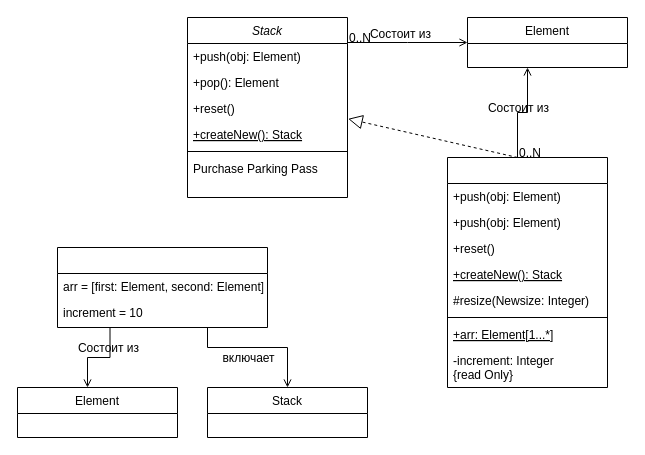
This 645x455 diagram has some shape labels left out. Each missing label, with the box of its shape:
ListStack: (446, 156, 608, 388)
ListStack экземпляр: (56, 246, 268, 328)
